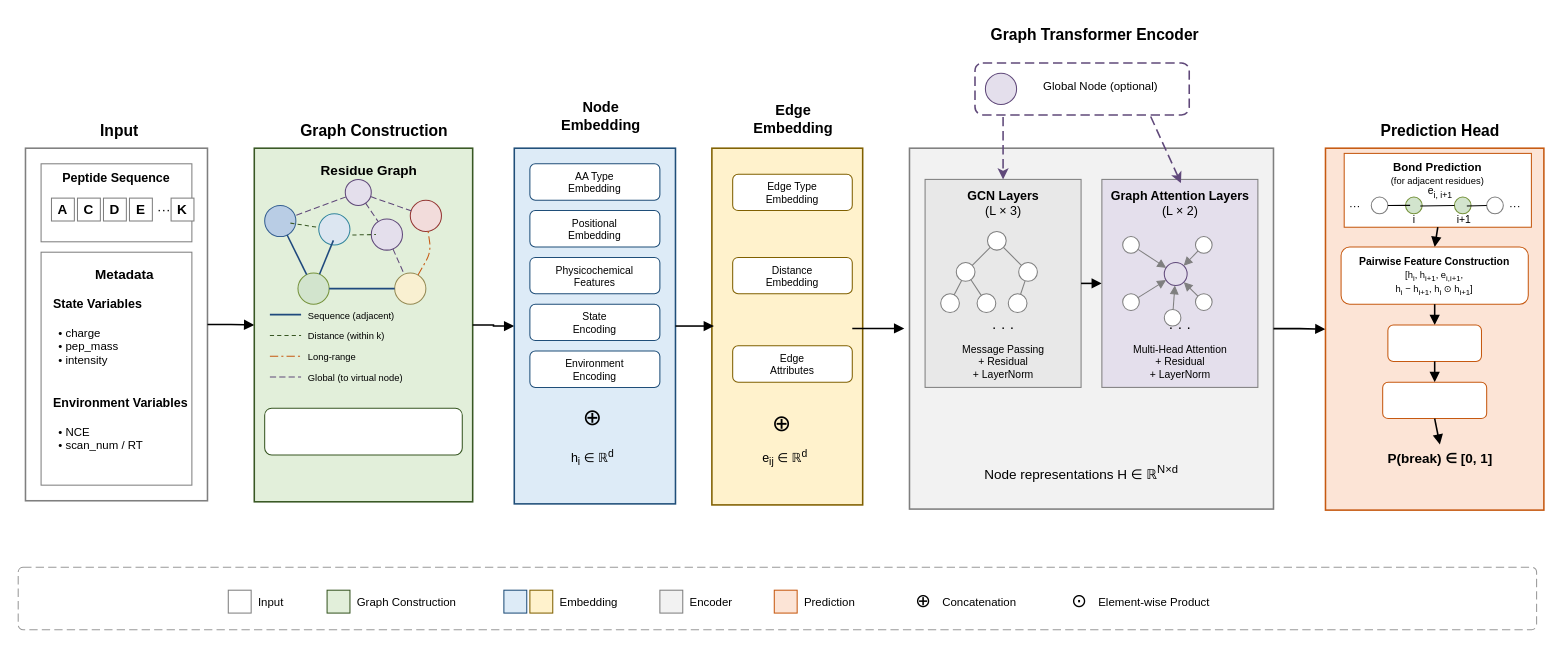
Image size: 1563x648. Some labels were removed from this diagram. The shapes that lost their labels are listed below. From the top down, each one's centre as x and y in pixels, then its label:
At (1434,342): "MLP".
At (1434,400): "Sigmoid".
At (363,431): "Edge Attributes (e.g., m/z diff., intensity ratio, ...)".
